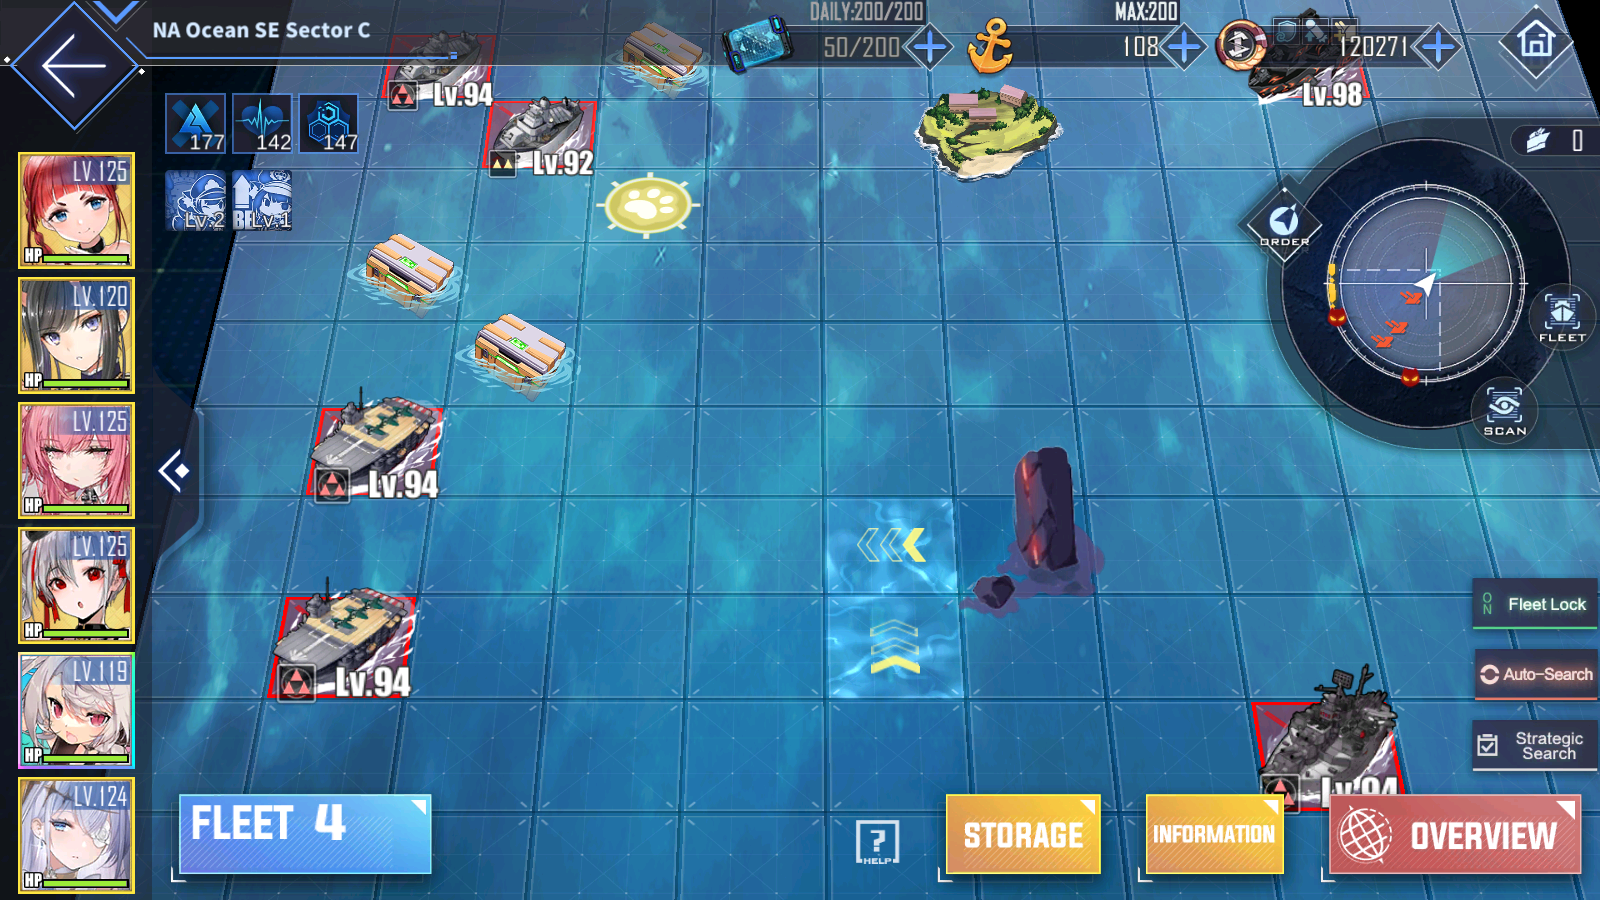enemy: (1251, 663, 1407, 812), (271, 593, 413, 699), (305, 399, 440, 498), (1251, 12, 1373, 105), (487, 100, 596, 175), (384, 32, 493, 104)
